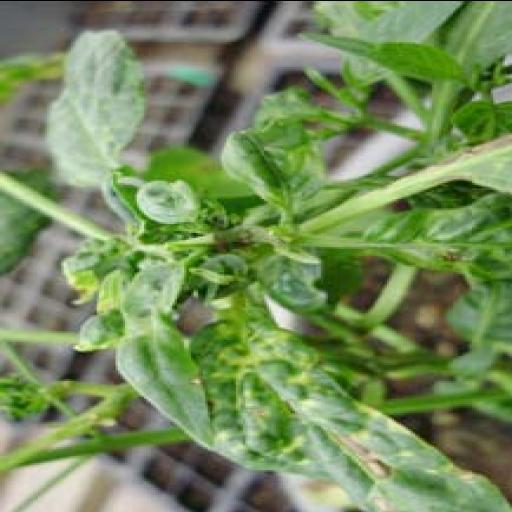disease_tomato: (184, 307, 490, 505), (222, 116, 338, 223), (364, 191, 512, 271)
